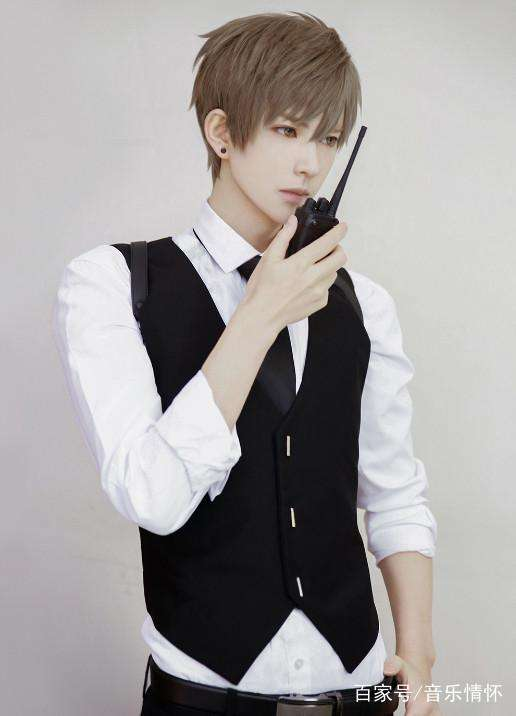person: (104, 34, 451, 648)
